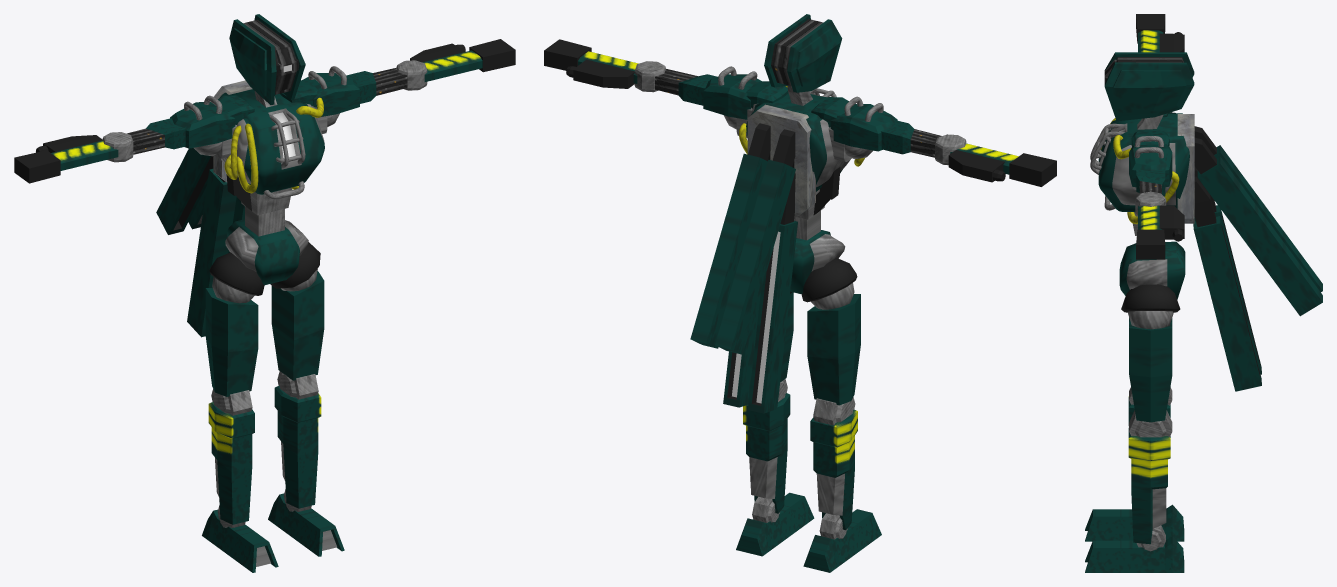
File: Robot 7.fbx
3 renders of one model, left to right at view 1: azimuth 30°, elevation 25°; view 2: azimuth 150°, elevation 25°; view 3: azimuth 270°, elevation 25°, orthographic. The views are drawn at different scales.
Visible parts, largest first — view 1: Cube.019, Cube.021, Icosphere, Cylinder.005, Cylinder.002, Icosphere.009, Cube.005, Icosphere.004, Cube.027, Icosphere.002, Cube.028, Cylinder (+6 smaller); view 2: Cube.019, Cube.028, Cube.024, Cube.027, Icosphere, Cylinder.002, Cube.005, Icosphere.004, Cylinder.005, Icosphere.002, Cube.021, Cube.008 (+7 smaller); view 3: Cube.019, Cube.024, Cube.026, Cube.005, Icosphere.009, Cylinder.005, Cube.021, Cube.008, Icosphere.002, Cube.015, Cylinder.006, Cube.028 (+4 smaller).
Boxes of the visible parts, <box> form: Cube.019: <box>212,80,327,199</box>; Cube.021: <box>209,219,320,295</box>; Icosphere: <box>205,277,258,396</box>; Cylinder.005: <box>274,371,321,508</box>; Cylinder.002: <box>208,389,254,524</box>; Icosphere.009: <box>271,269,324,380</box>; Cube.005: <box>229,14,305,105</box>; Icosphere.004: <box>127,95,235,156</box>; Cube.027: <box>187,169,236,337</box>; Icosphere.002: <box>302,66,407,126</box>; Cube.028: <box>156,148,213,234</box>; Cylinder: <box>36,132,133,170</box>; Cube.019: <box>736,81,864,215</box>; Cube.028: <box>715,129,795,354</box>; Cube.024: <box>690,123,770,348</box>; Cube.027: <box>747,173,797,413</box>; Icosphere: <box>807,283,860,405</box>; Cylinder.002: <box>810,397,857,530</box>; Cube.005: <box>764,14,842,92</box>; Icosphere.004: <box>830,96,941,159</box>; Cylinder.005: <box>743,379,790,513</box>; Icosphere.002: <box>655,66,762,129</box>; Cube.021: <box>790,230,857,302</box>; Cube.008: <box>736,492,814,556</box>; Cube.019: <box>1090,112,1194,224</box>; Cube.024: <box>1194,137,1322,316</box>; Cube.026: <box>1193,176,1261,391</box>; Cube.005: <box>1104,52,1194,121</box>; Icosphere.009: <box>1128,311,1173,422</box>; Cylinder.005: <box>1128,410,1172,544</box>; Cube.021: <box>1119,241,1185,312</box>; Cube.008: <box>1085,525,1184,572</box>; Icosphere.002: <box>1129,136,1172,196</box>; Cube.015: <box>1085,504,1184,541</box>; Cylinder.006: <box>1135,191,1184,241</box>; Cube.028: <box>1194,126,1322,291</box>.
Bounding box in the file's own units: 1282 × 1276 × 558.
